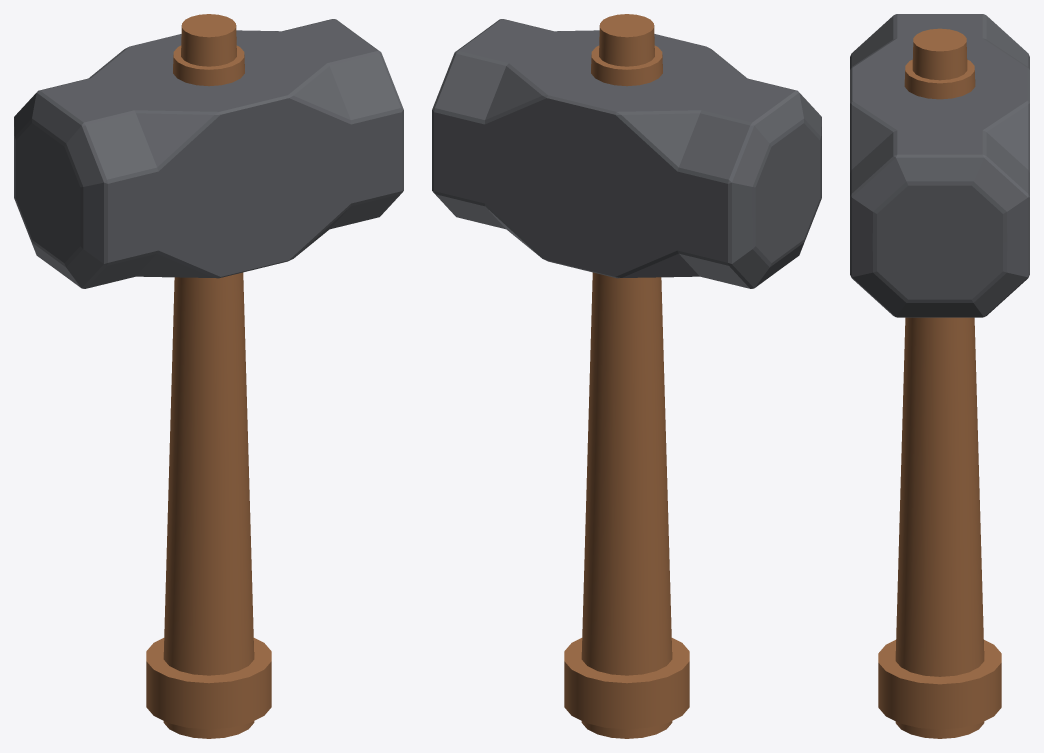
3 renders of one model, left to right at view 1: azimuth 30°, elevation 25°; view 2: azimuth 150°, elevation 25°; view 3: azimuth 270°, elevation 25°, orthographic. The views are drawn at different scales.
Parts seen in each view (by area): view 1: 閿ゅご; view 2: 閿ゅご; view 3: 閿ゅご.
Boxes of the visible parts, x1=… form: 閿ゅご: x1=14, y1=14, x2=403, y2=738; 閿ゅご: x1=432, y1=14, x2=821, y2=738; 閿ゅご: x1=850, y1=14, x2=1029, y2=738.
Size of the model in its own units: 16.18 by 33.37 by 8.
